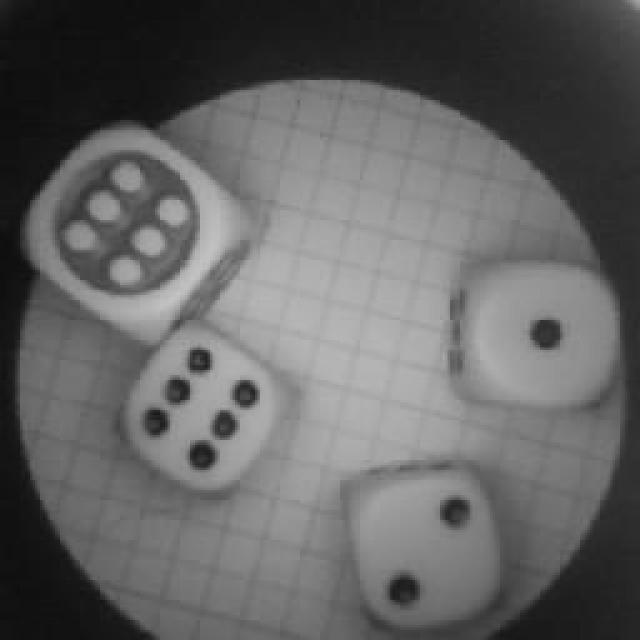dice_1: (435, 240, 640, 420)
dice_2: (332, 455, 510, 633)
dice_6: (25, 117, 240, 345), (110, 320, 292, 502)
